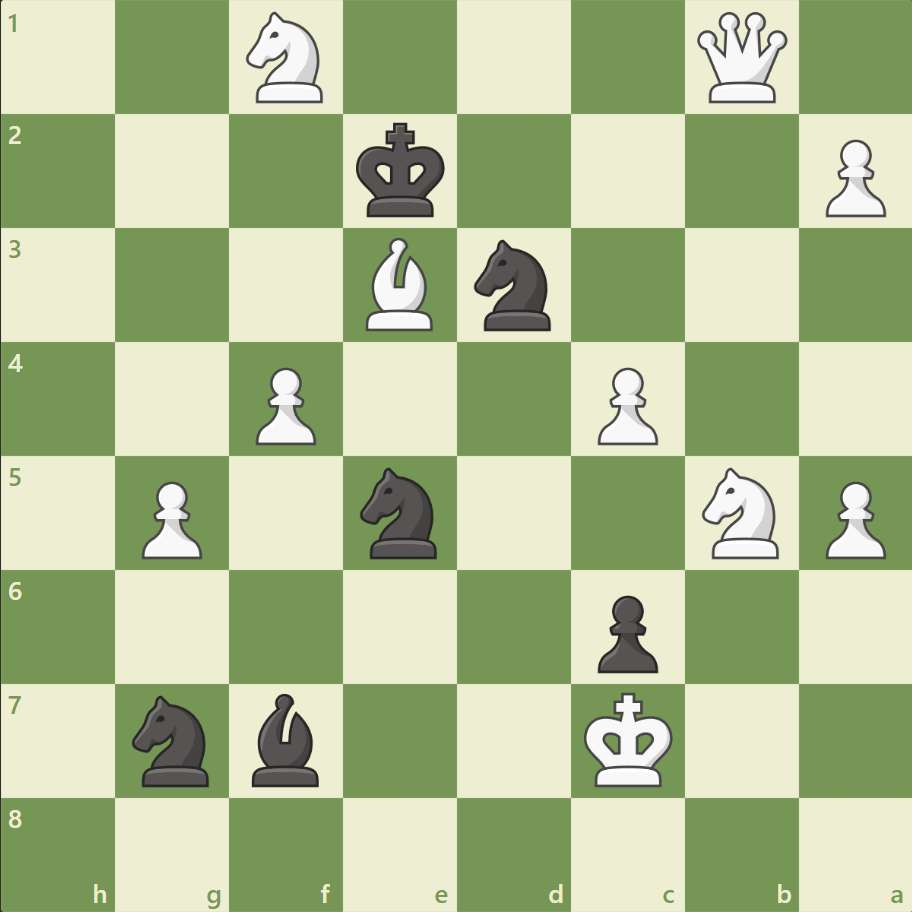B: (358, 233, 442, 336)
K: (579, 685, 679, 793)
N: (692, 461, 789, 564), (238, 7, 335, 110)
P: (133, 473, 208, 564), (247, 359, 322, 450), (815, 473, 889, 564), (588, 359, 662, 450), (815, 132, 889, 223)
Q: (691, 9, 790, 108)
b: (244, 687, 328, 790)
k: (351, 117, 451, 225)
n: (124, 688, 222, 791), (351, 461, 449, 564), (465, 234, 562, 337)
p: (588, 586, 662, 677)
